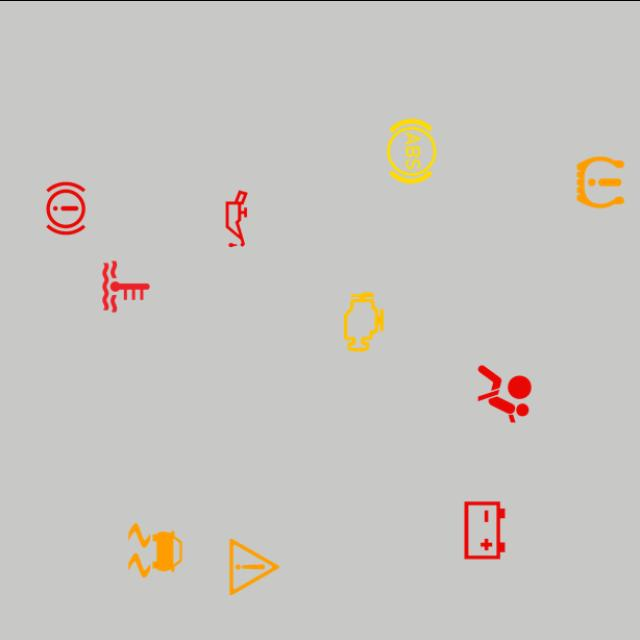Anti Lock Braking System: (376, 114, 447, 186)
Braking System Issue: (30, 172, 101, 243)
Charging System Issue: (449, 494, 520, 565)
Check Engine: (328, 286, 399, 356)
Electronic Stability Problem -ESP-: (120, 514, 191, 585)
Engine Overheating Warning Light: (90, 250, 162, 321)
Low Engine Oil Warning Light: (201, 182, 272, 254)
Low Tire Pressure Warning Light: (565, 146, 636, 217)
Master warning light: (219, 530, 290, 602)
SRS-Airbag: (469, 358, 540, 428)
